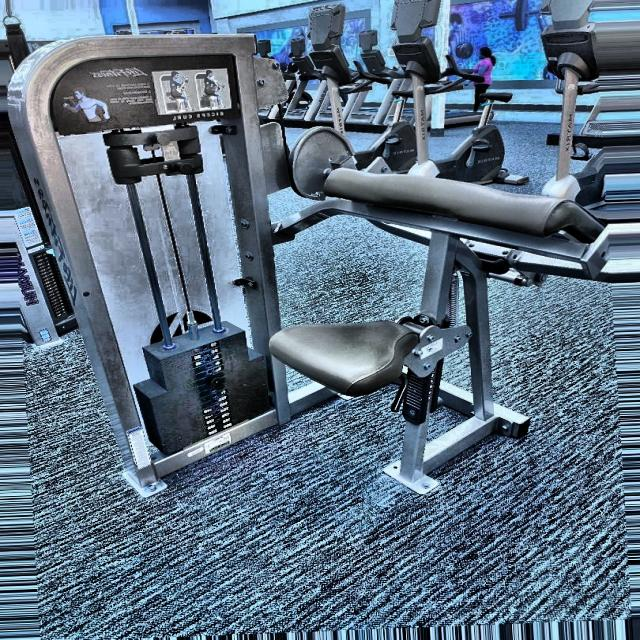bicep_curl_machine: (246, 66, 625, 493), (45, 52, 237, 144)
